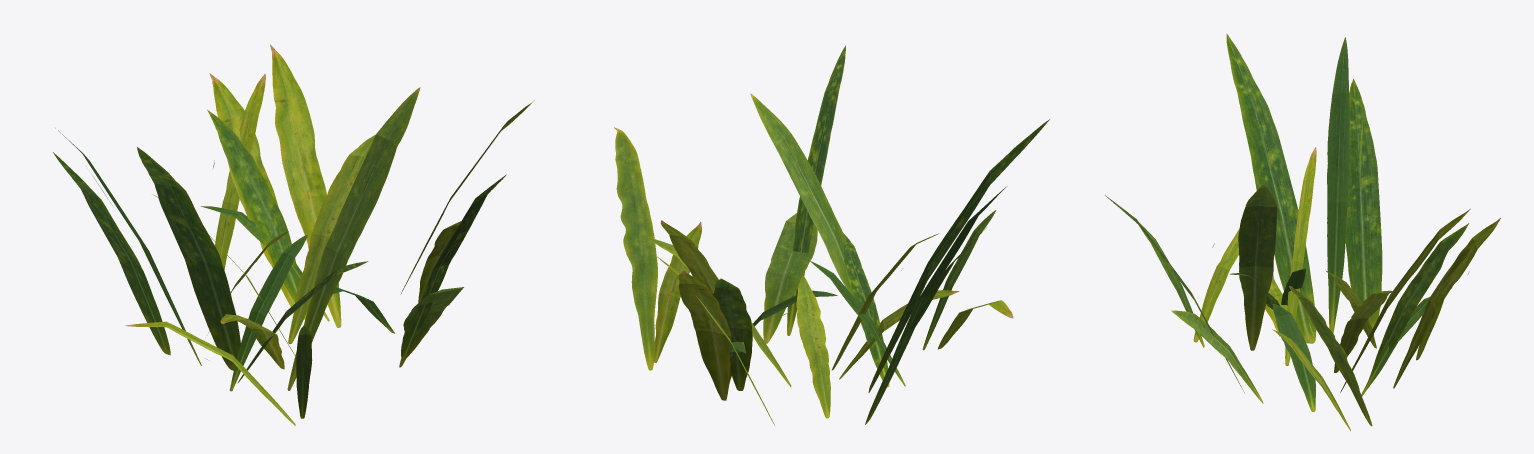
Rendered from grass_03.glb.
3 renders of one model, left to right at view 1: azimuth 30°, elevation 25°; view 2: azimuth 150°, elevation 25°; view 3: azimuth 270°, elevation 25°, orthographic. The views are drawn at different scales.
Parts seen in each view (by area): view 1: grass_03; view 2: grass_03; view 3: grass_03.
Part boxes in pixels (<box>): grass_03: <box>53,44,534,425</box>; grass_03: <box>614,45,1049,425</box>; grass_03: <box>1105,34,1500,430</box>.
Size of the model in its own units: 1.14 by 0.6578 by 1.02.
Materials: 1 (1 with a texture image).
